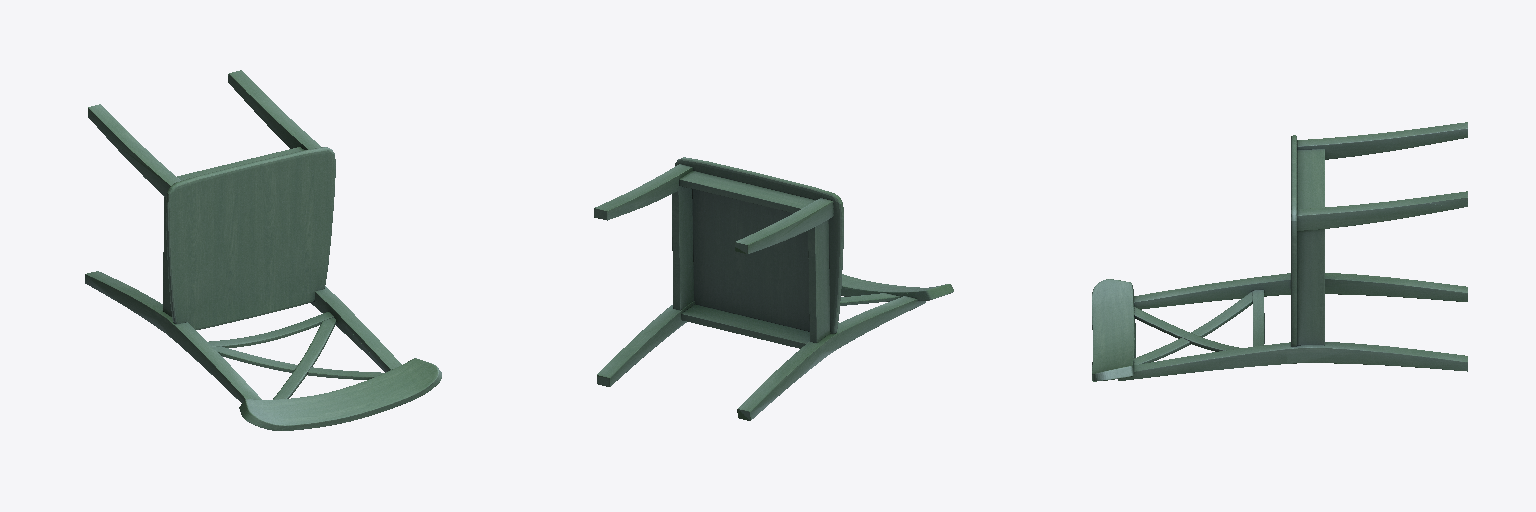
3 renders of one model, left to right at view 1: azimuth 30°, elevation 25°; view 2: azimuth 150°, elevation 25°; view 3: azimuth 270°, elevation 25°, orthographic.
Size of the model in its own units: 0.5616 by 0.5346 by 0.9323.
1 materials, 1 textured.